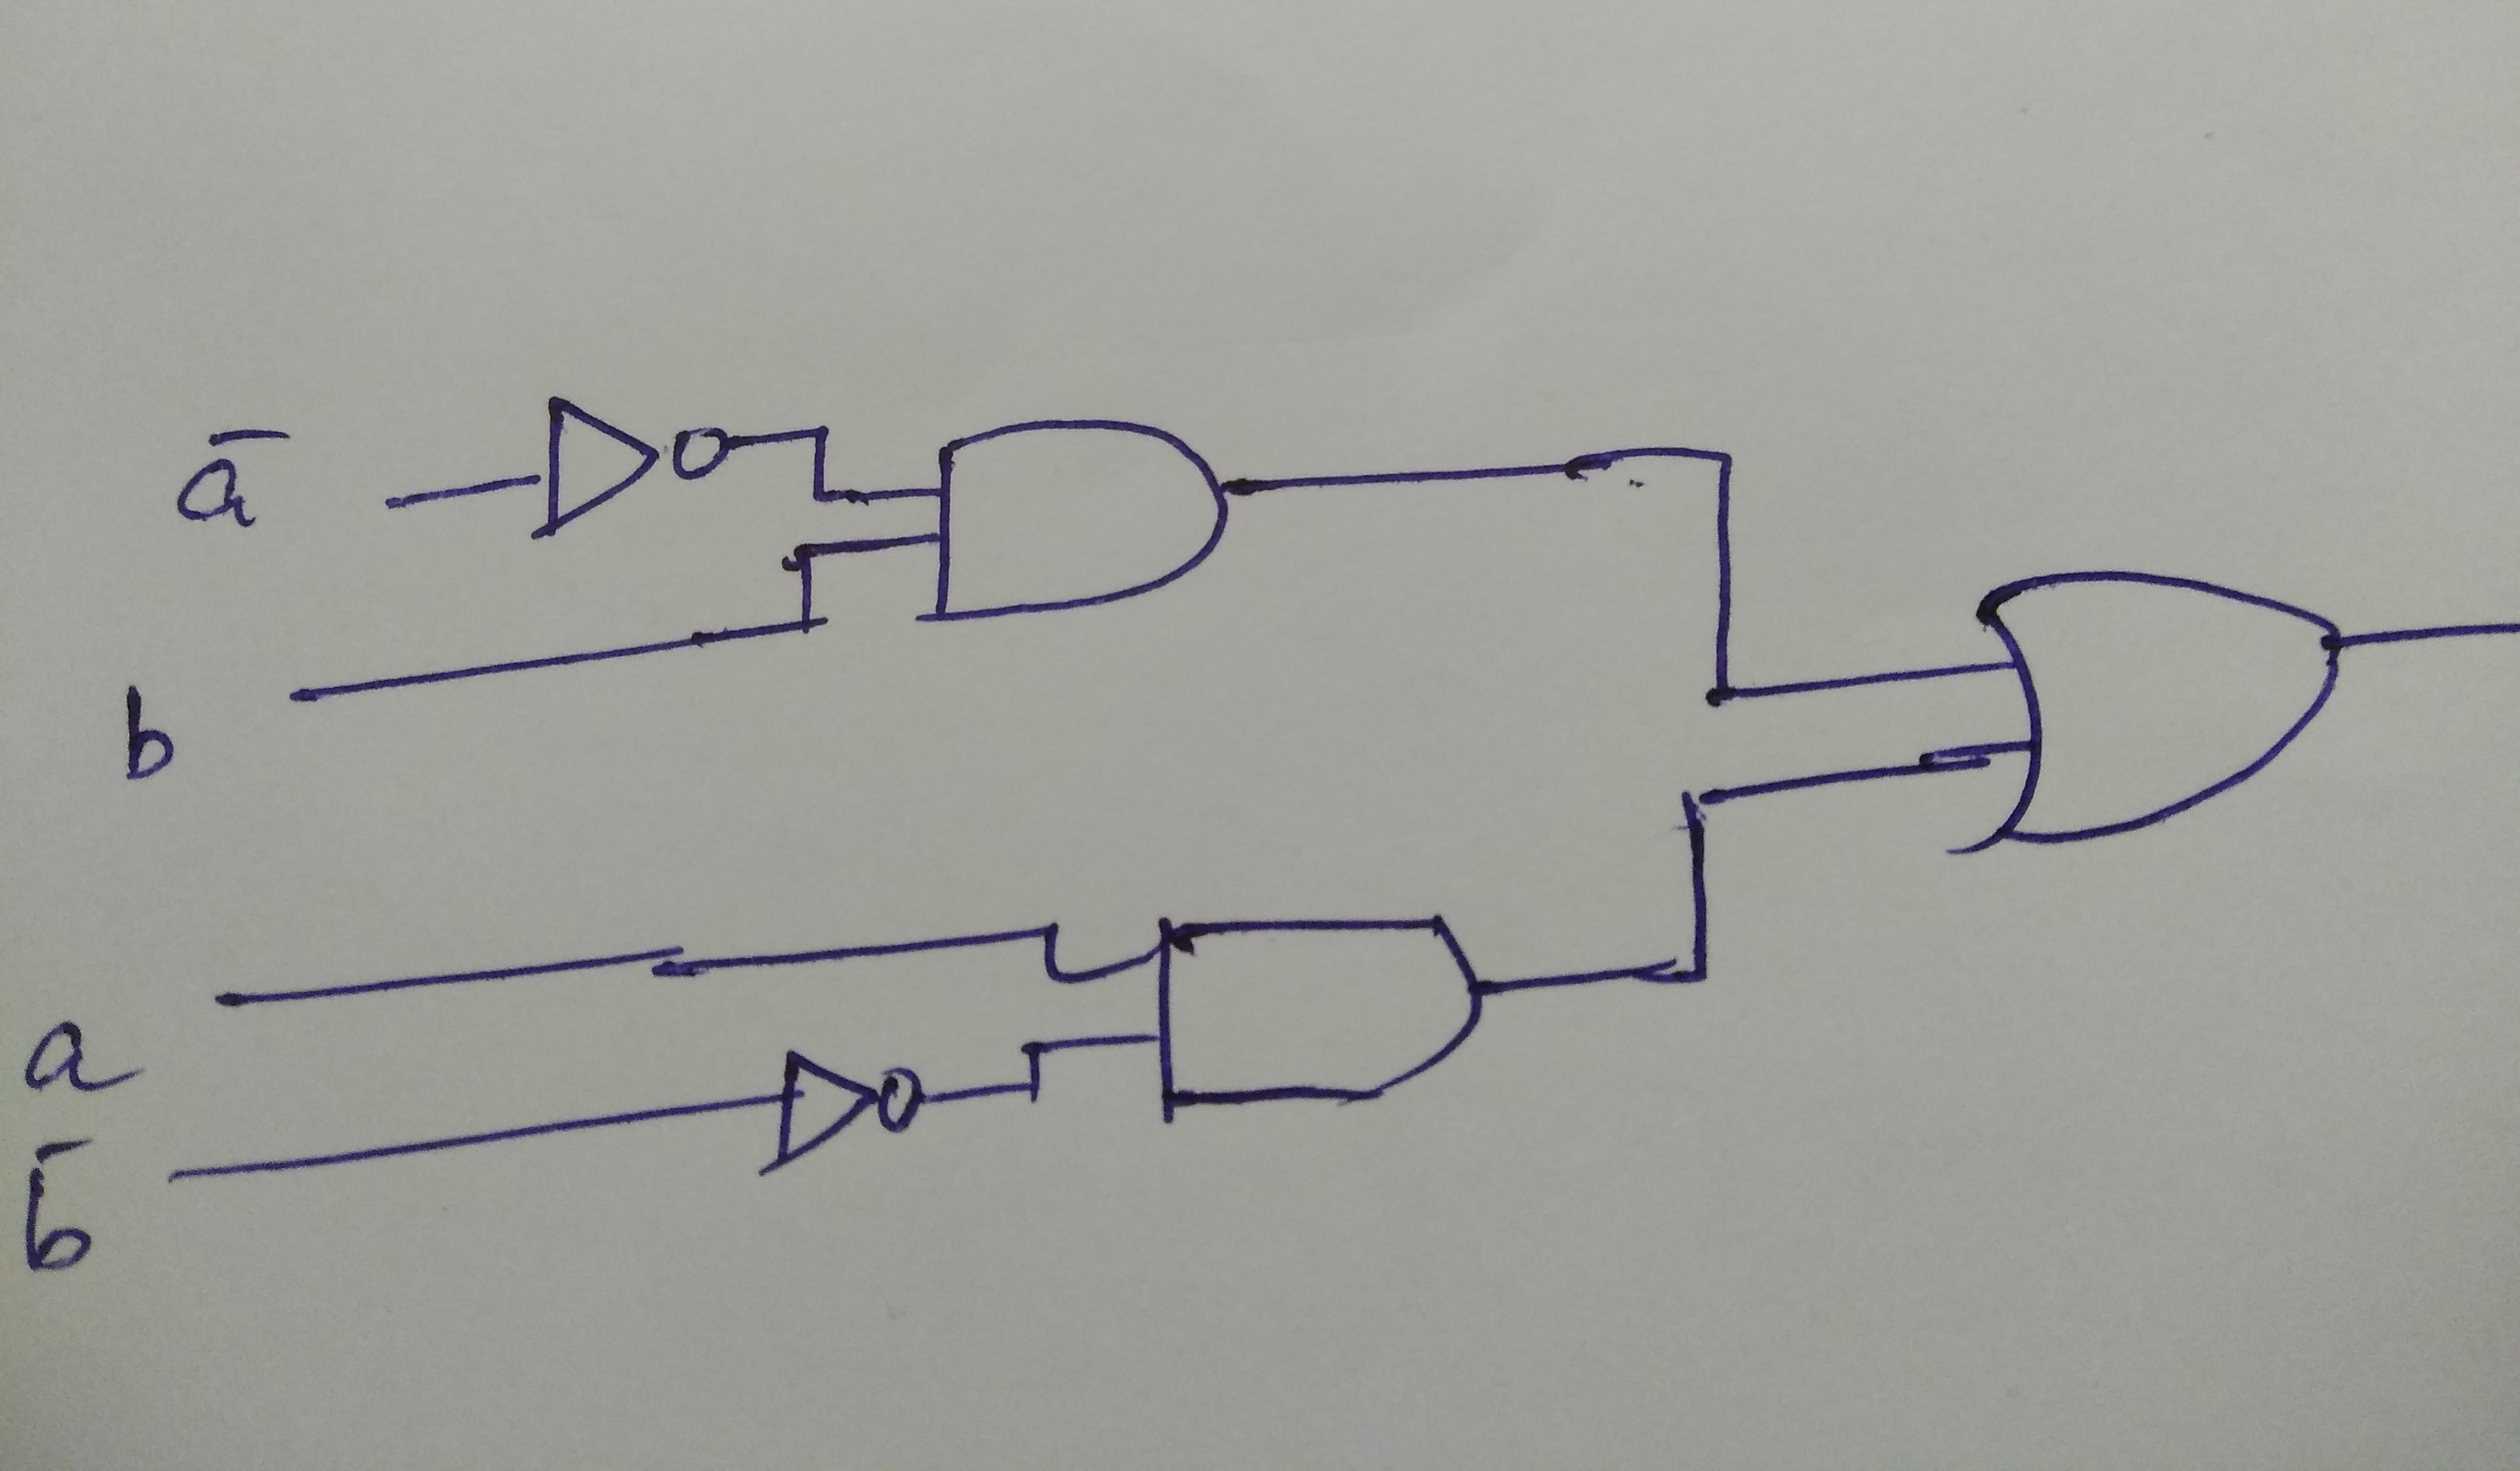and: (1119, 881, 1515, 1152), (888, 389, 1257, 669)
not: (520, 380, 753, 550), (753, 1028, 947, 1201)
or: (1916, 518, 2394, 897)
